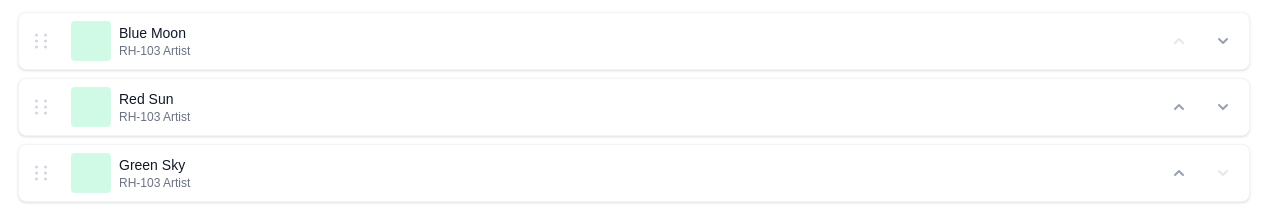
Test: the reorder drag (RH-103) › writes nothing when Escape ends the drag (ER19)
This screenshot has width=1269, height=222.
Press the mouse on the button named "Drag " at (41, 41), box 19,13 -> 63,69
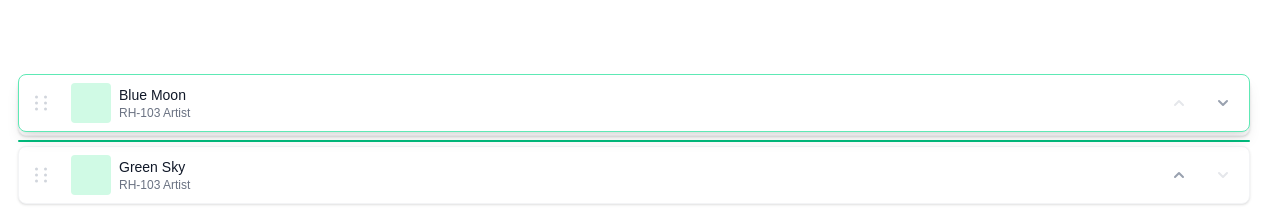
Expected: the list item with test id "reorder-insertion-line" is shown, 18,140 -> 1250,142
Press Escape
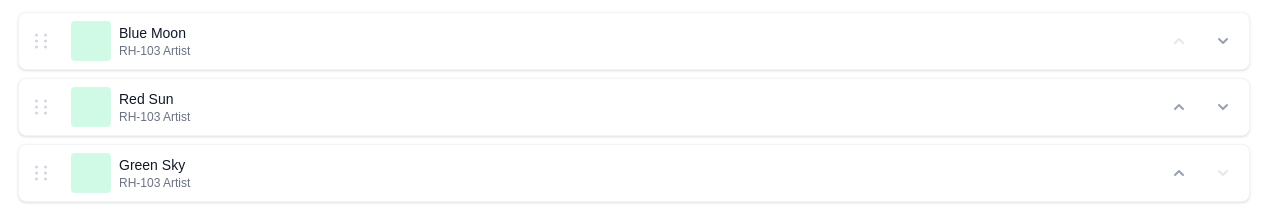
Expected: the list item with test id "reorder-insertion-line" is gone
